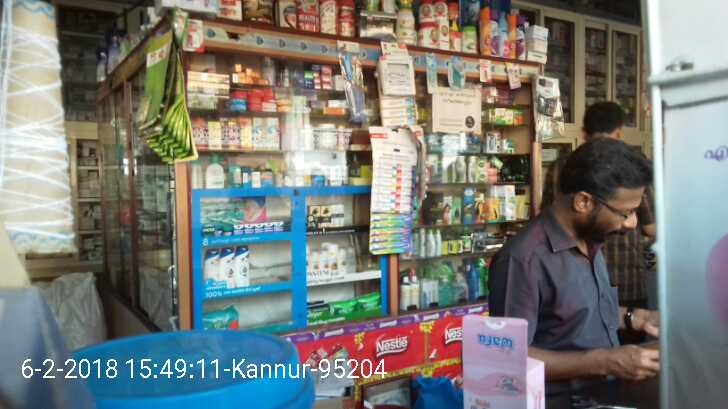vicks: (214, 216, 289, 235)
